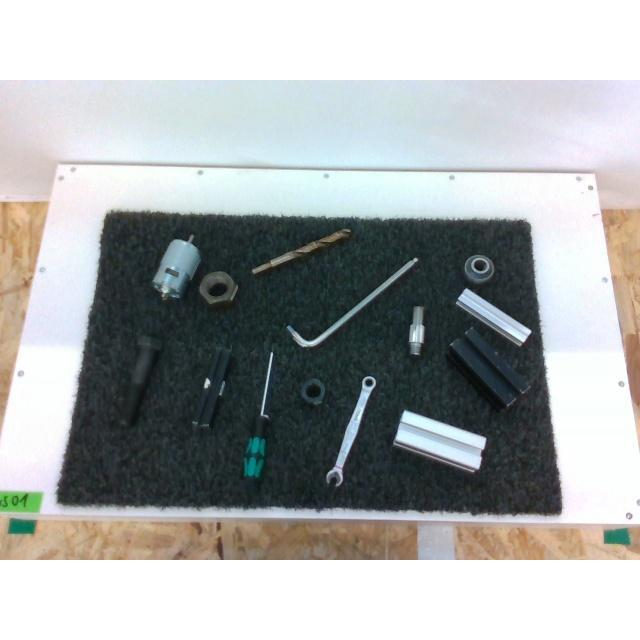AllenKey: (287, 256, 419, 346)
Axis2: (408, 306, 424, 354)
Bearing2: (464, 254, 494, 280)
Drill: (250, 230, 350, 274)
F20_20_B: (191, 347, 233, 429)
F20_20_G: (456, 288, 532, 344)
M20: (298, 379, 326, 403)
M20_100: (118, 332, 162, 428)
M30: (200, 270, 237, 302)
Motor2: (151, 236, 199, 296)
S40_40_B: (449, 329, 531, 409)
S40_40_G: (393, 410, 485, 470)
Screwdriver: (244, 342, 276, 494)
Wrench: (327, 376, 375, 486)
